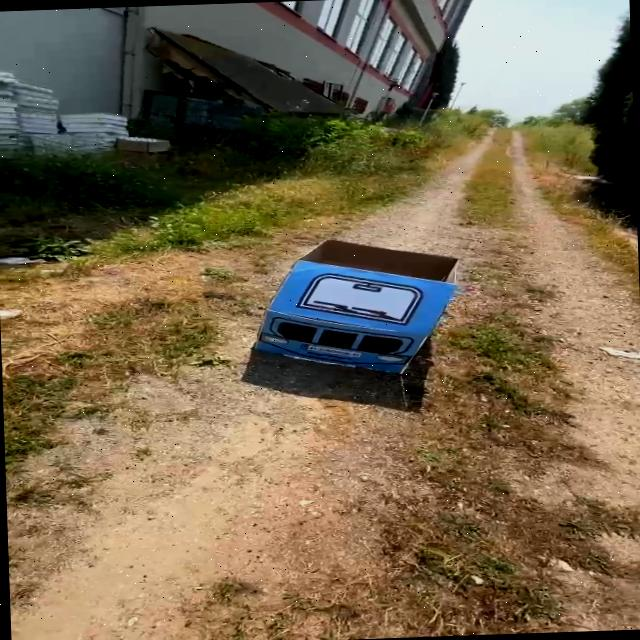blue_car: (224, 221, 479, 401)
